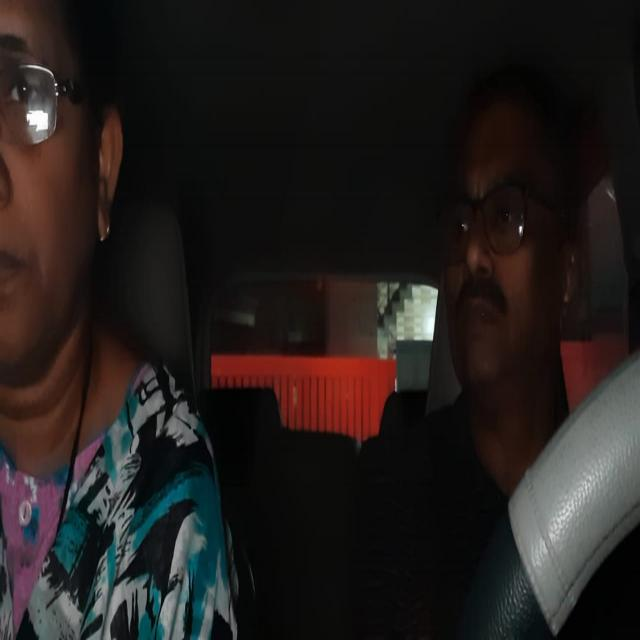LeftRight: (437, 75, 588, 420)
person: (0, 0, 120, 382)
